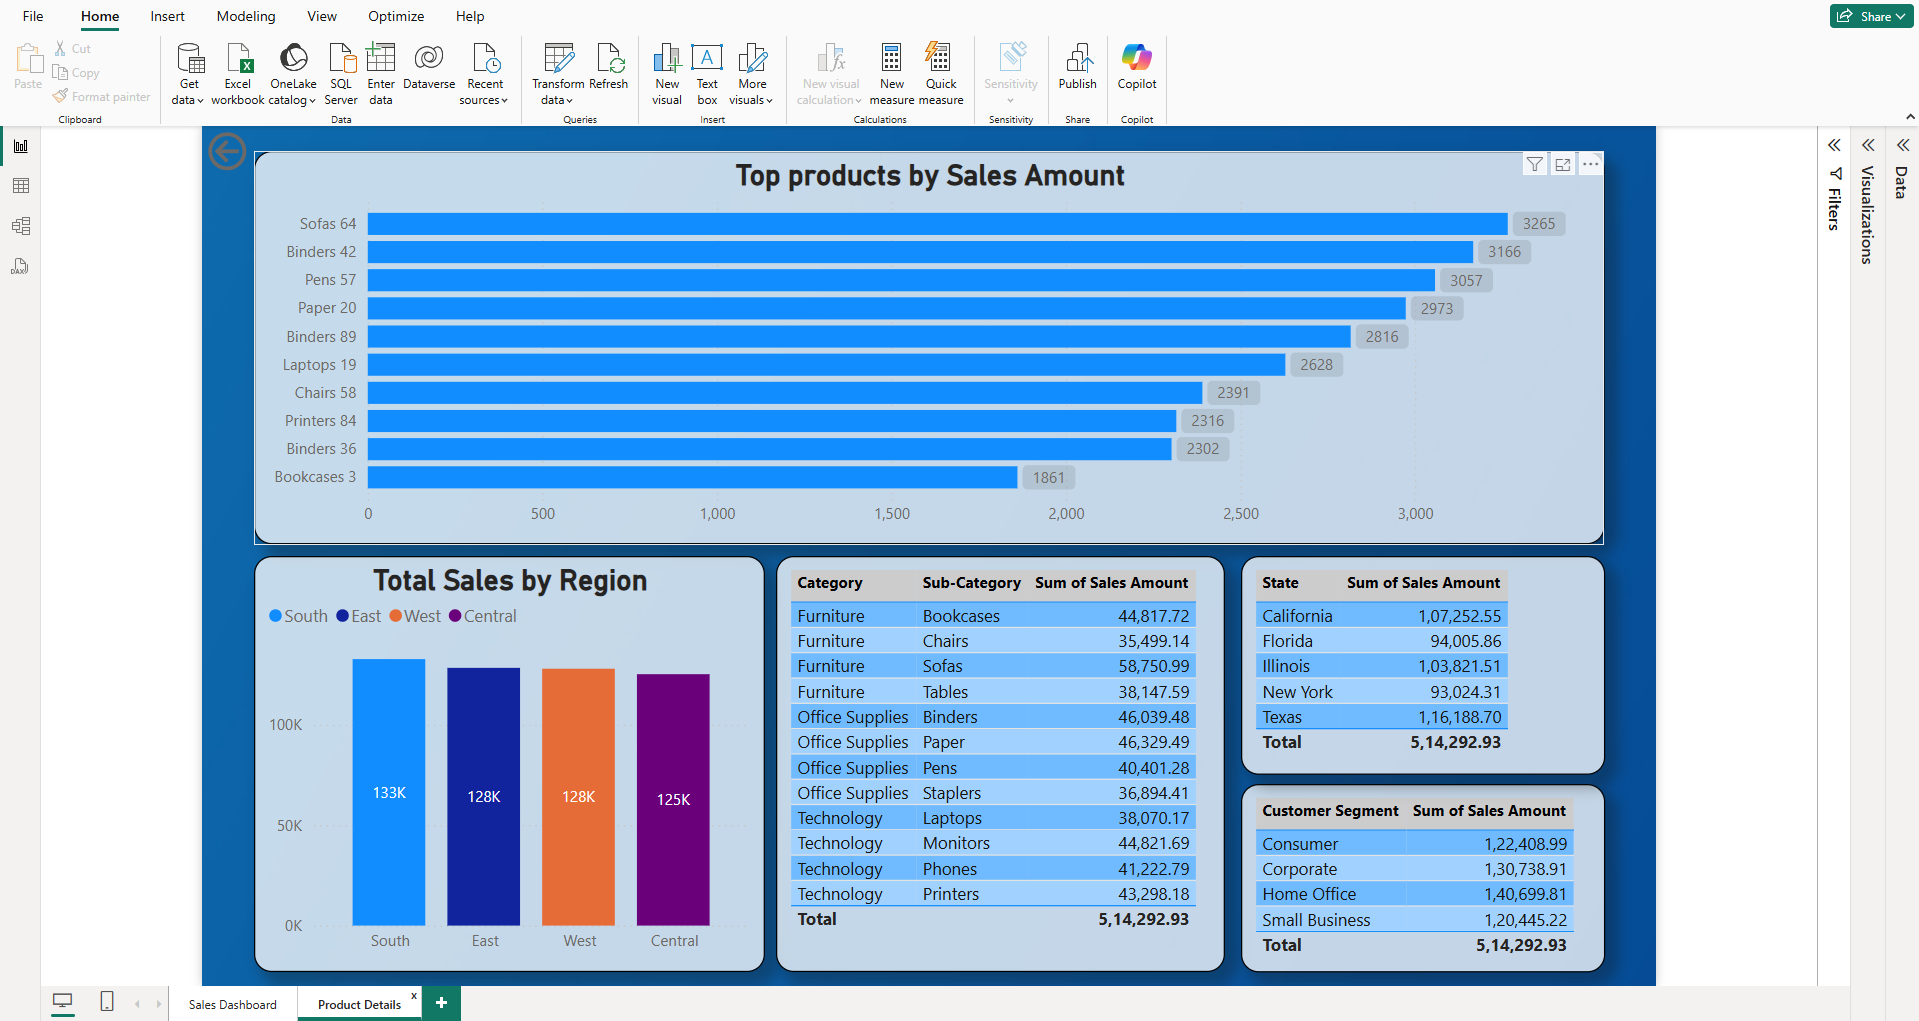

The page's visual inventory and layout, read from the dashboard file:
{"tool":"powerbi","page":{"name":"Product Details","canvas":[1150,680],"ordinal":1},"visuals":[{"type":"actionButton","box":[0,0,100,40],"z":0},{"type":"clusteredBarChart","title":"Top products by Sales Amount","fields":{"Category":["Superstore Sales.Product Name"],"Y":["Sum(Superstore Sales.Sales Amount)"]},"box":[41.1,20.1,1067.9,311.1],"z":1000},{"type":"columnChart","title":"Total Sales by Region","fields":{"Y":["Sum(Superstore Sales.Sales Amount)"],"Category":["Superstore Sales.Region"],"Series":["Superstore Sales.Region"]},"box":[41.1,339.9,403.7,328.6],"z":2000},{"type":"tableEx","fields":{"Values":["Superstore Sales.Category","Superstore Sales.Sub-Category","Sum(Superstore Sales.Sales Amount)"]},"box":[453.5,339.9,354.8,328.6],"z":3000},{"type":"tableEx","fields":{"Values":["Superstore Sales.Customer Segment","Sum(Superstore Sales.Sales Amount)"]},"box":[821.4,519.9,287.5,148.6],"z":4000},{"type":"tableEx","fields":{"Values":["Superstore Sales.State","Sum(Superstore Sales.Sales Amount)"]},"box":[821.4,339.9,287.5,173],"z":5000}]}

Visuals, with their boxes on the page's 1150x680 design canvas (x1, y1, x2, y2). These are canvas units, not pixel positions in the 1919x1021 screenshot, which may show the page scaled, cropped or inside an application window:
actionButton: <bbox>0, 0, 100, 40</bbox>
"Top products by Sales Amount" clusteredBarChart: <bbox>41, 20, 1109, 331</bbox>
"Total Sales by Region" columnChart: <bbox>41, 340, 445, 668</bbox>
tableEx - Superstore Sales.Category x Superstore Sales.Sub-Category: <bbox>454, 340, 808, 668</bbox>
tableEx - Superstore Sales.Customer Segment x Sum(Superstore Sales.Sales Amount): <bbox>821, 520, 1109, 668</bbox>
tableEx - Superstore Sales.State x Sum(Superstore Sales.Sales Amount): <bbox>821, 340, 1109, 513</bbox>
